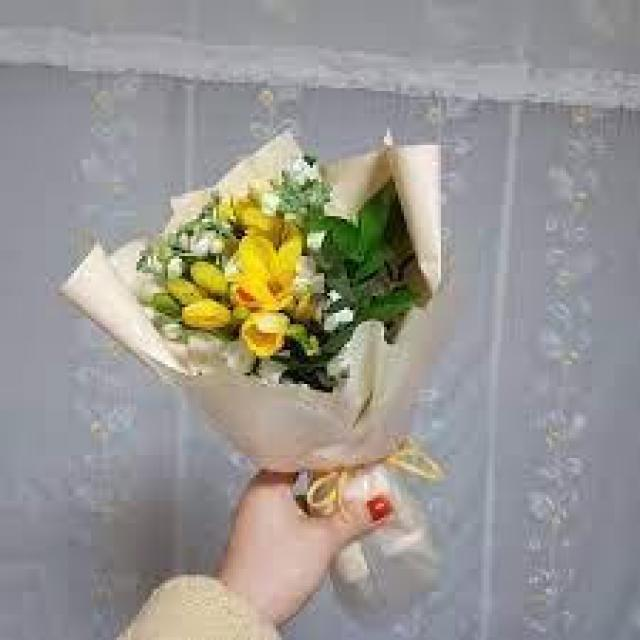freesia: (218, 229, 310, 325)
